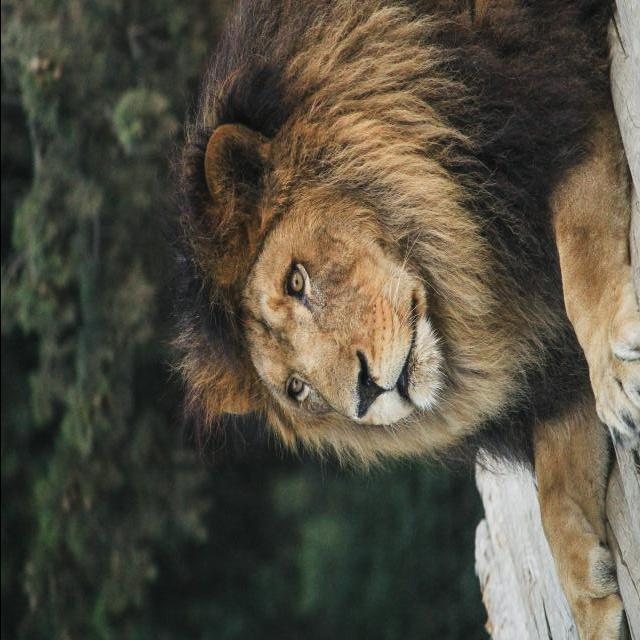lions: (52, 41, 640, 640)
